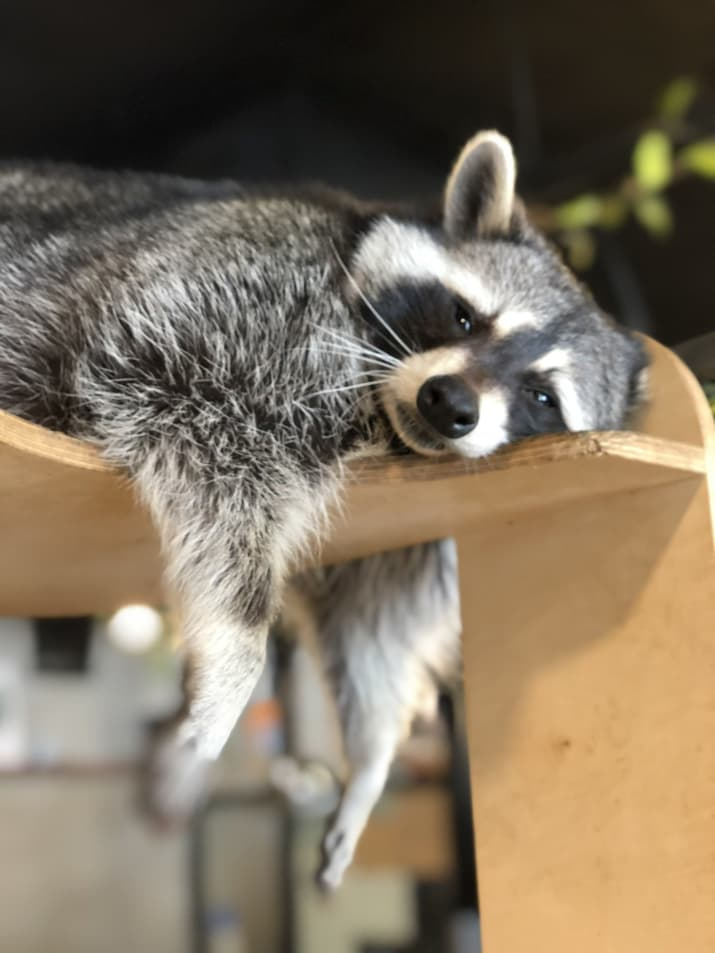raccoon: (1, 119, 650, 847)
